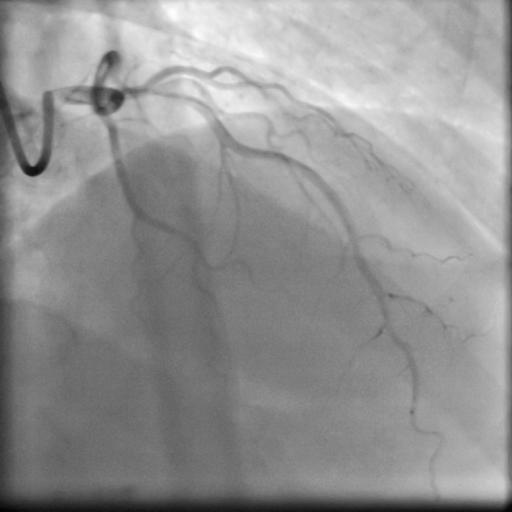Stenosis: (133, 84, 196, 103)
